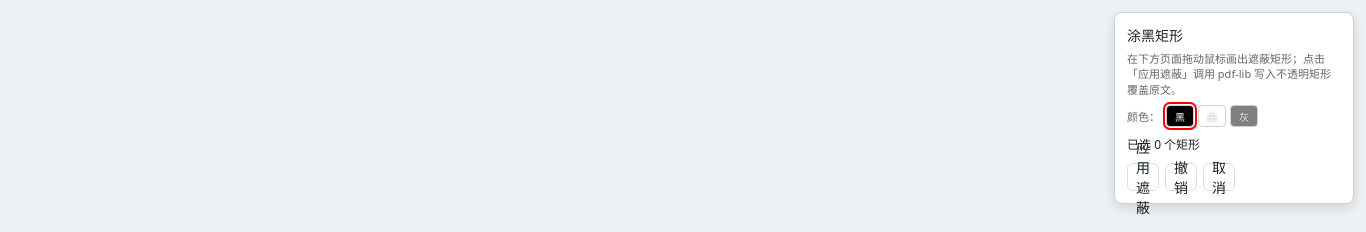
Test: RedactionOverlay (ISS-067 阶段 2) › 鼠标抬起 → 提交 region 到已选列表，draft 消失
Press the mouse on the element with test id "redaction-overlay" at (1234, 108), box [1114, 12, 1354, 204]
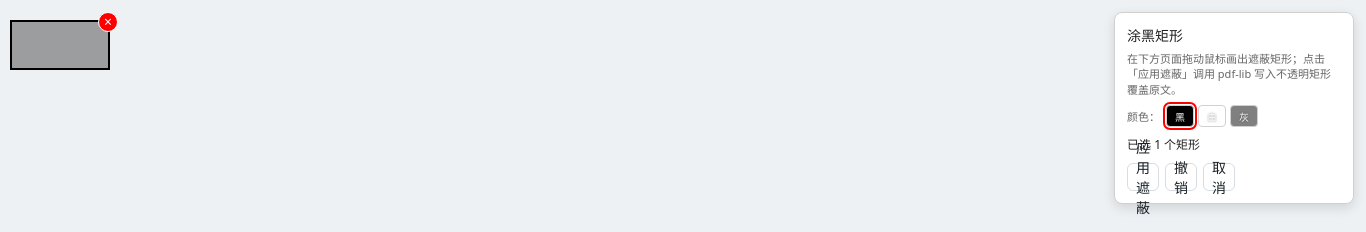
Expected: the number of elements with class "redaction-overlay__region" is 1, [10, 20, 110, 70]
